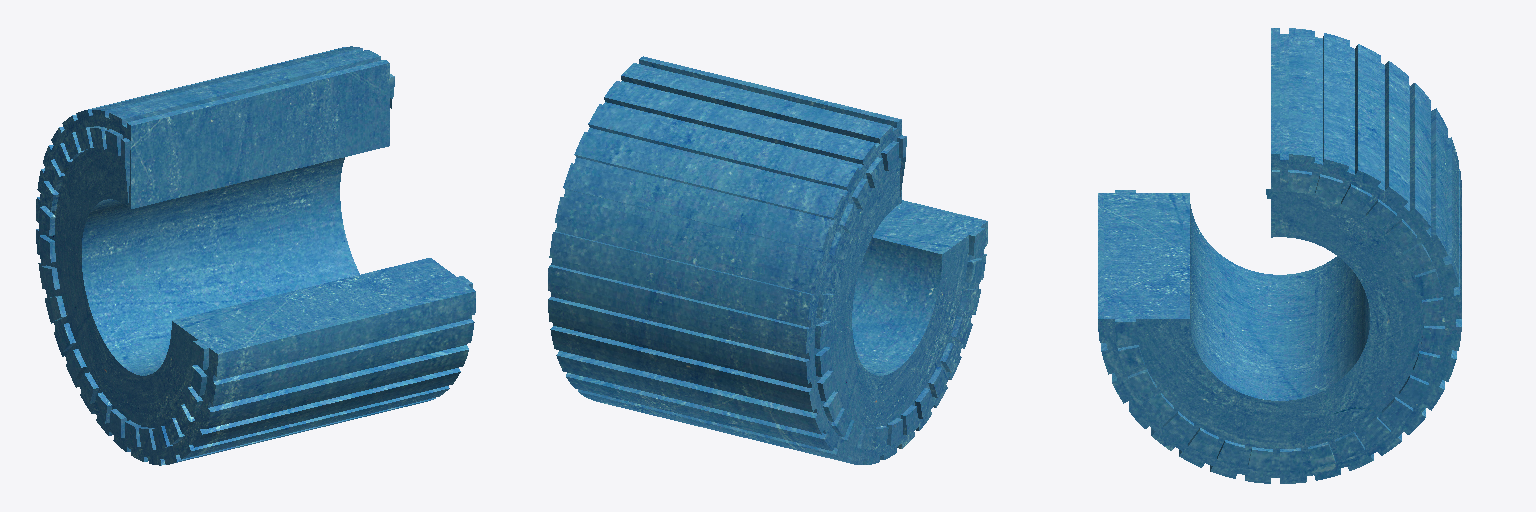
3 views of the same model, side by side, from view 1: azimuth 30°, elevation 25°; view 2: azimuth 150°, elevation 25°; view 3: azimuth 270°, elevation 25° (orthographic).
Visible parts, largest first — view 1: Cylinder.039; view 2: Cylinder.039; view 3: Cylinder.039.
Boxes of the visible parts, x1=… form: Cylinder.039: x1=36, y1=46, x2=475, y2=465; Cylinder.039: x1=548, y1=56, x2=987, y2=464; Cylinder.039: x1=1098, y1=28, x2=1461, y2=483.
Bounding box in the file's own units: 0.0931 × 0.109 × 0.109.
1 materials, 1 textured.